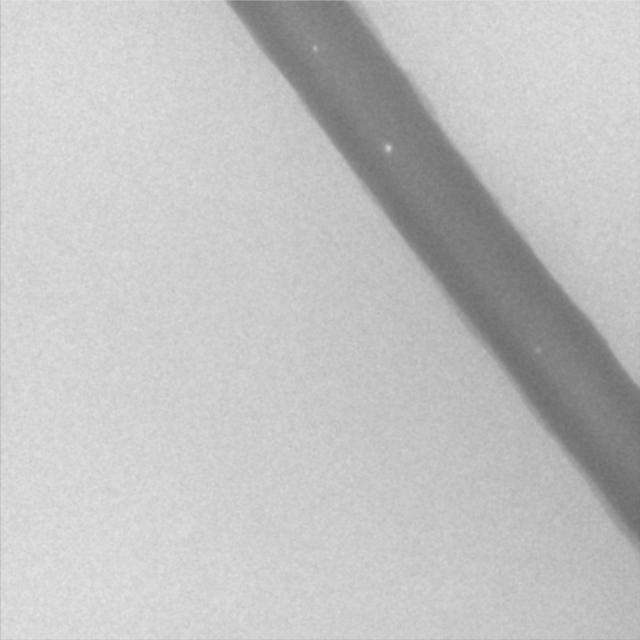air hole: (382, 142, 393, 153), (310, 43, 318, 52)
